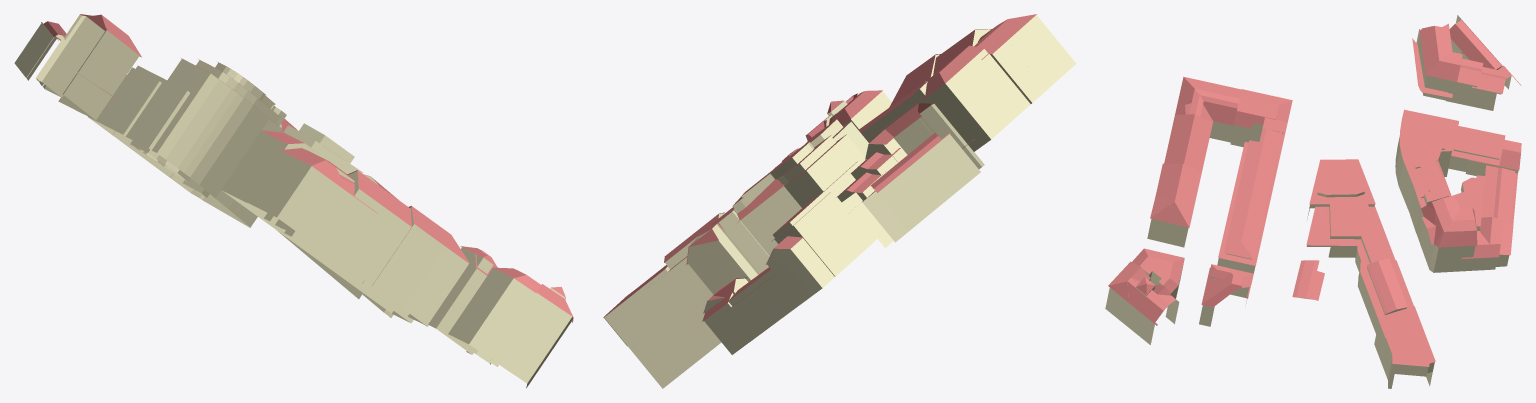
File: tile_007.glb
The picture shows the model from 3 angles, left to right: view 1: azimuth 30°, elevation 25°; view 2: azimuth 150°, elevation 25°; view 3: azimuth 270°, elevation 25°; orthographic projection. The views are drawn at different scales.
Visible parts, largest first — view 1: Batched_Building_ID_72529312-9D7A-4893-87D8-964FB2C86340, Batched_Building_ID_8000575A-E560-4F0A-B197-DCE650E9D3D4; view 2: Batched_Building_ID_72529312-9D7A-4893-87D8-964FB2C86340, Batched_Building_ID_8000575A-E560-4F0A-B197-DCE650E9D3D4; view 3: Batched_Building_ID_8000575A-E560-4F0A-B197-DCE650E9D3D4, Batched_Building_ID_72529312-9D7A-4893-87D8-964FB2C86340.
Part boxes in pixels (x1=…): Batched_Building_ID_72529312-9D7A-4893-87D8-964FB2C86340: x1=14, y1=14, x2=572, y2=388; Batched_Building_ID_8000575A-E560-4F0A-B197-DCE650E9D3D4: x1=41, y1=14, x2=573, y2=322; Batched_Building_ID_72529312-9D7A-4893-87D8-964FB2C86340: x1=603, y1=15, x2=1076, y2=388; Batched_Building_ID_8000575A-E560-4F0A-B197-DCE650E9D3D4: x1=603, y1=14, x2=1036, y2=321; Batched_Building_ID_8000575A-E560-4F0A-B197-DCE650E9D3D4: x1=1108, y1=15, x2=1521, y2=366; Batched_Building_ID_72529312-9D7A-4893-87D8-964FB2C86340: x1=1105, y1=15, x2=1518, y2=388.
Bounding box in the file's own units: 134 × 114 × 162.
